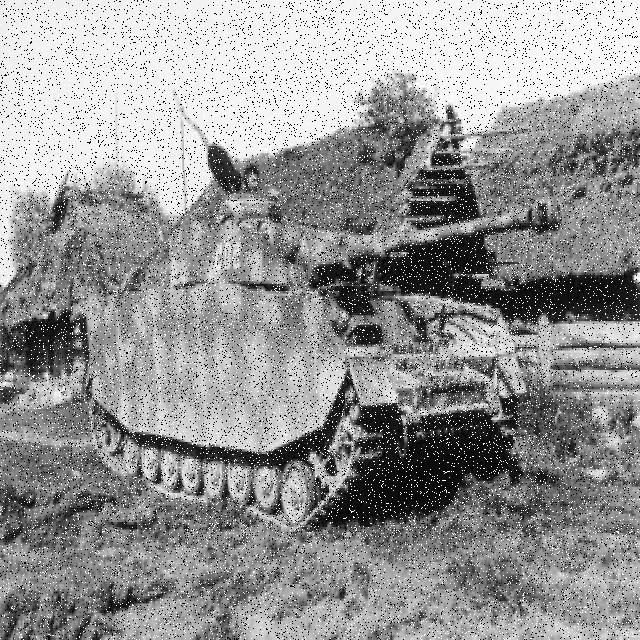MIL_MBT: (63, 170, 553, 539)
